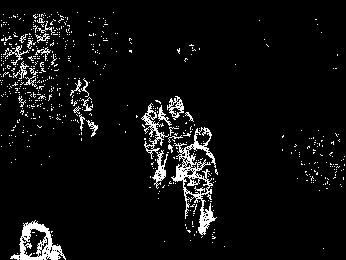person: (186, 126, 219, 234), (140, 100, 169, 187), (68, 77, 100, 139), (169, 96, 191, 154)
